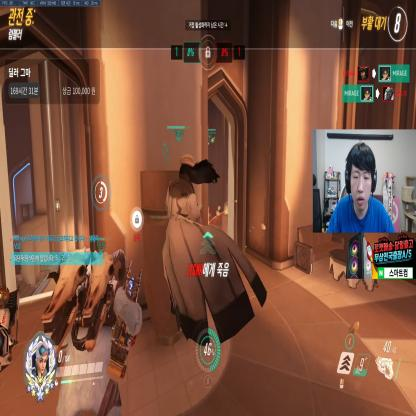streamer: (328, 143, 394, 232)
